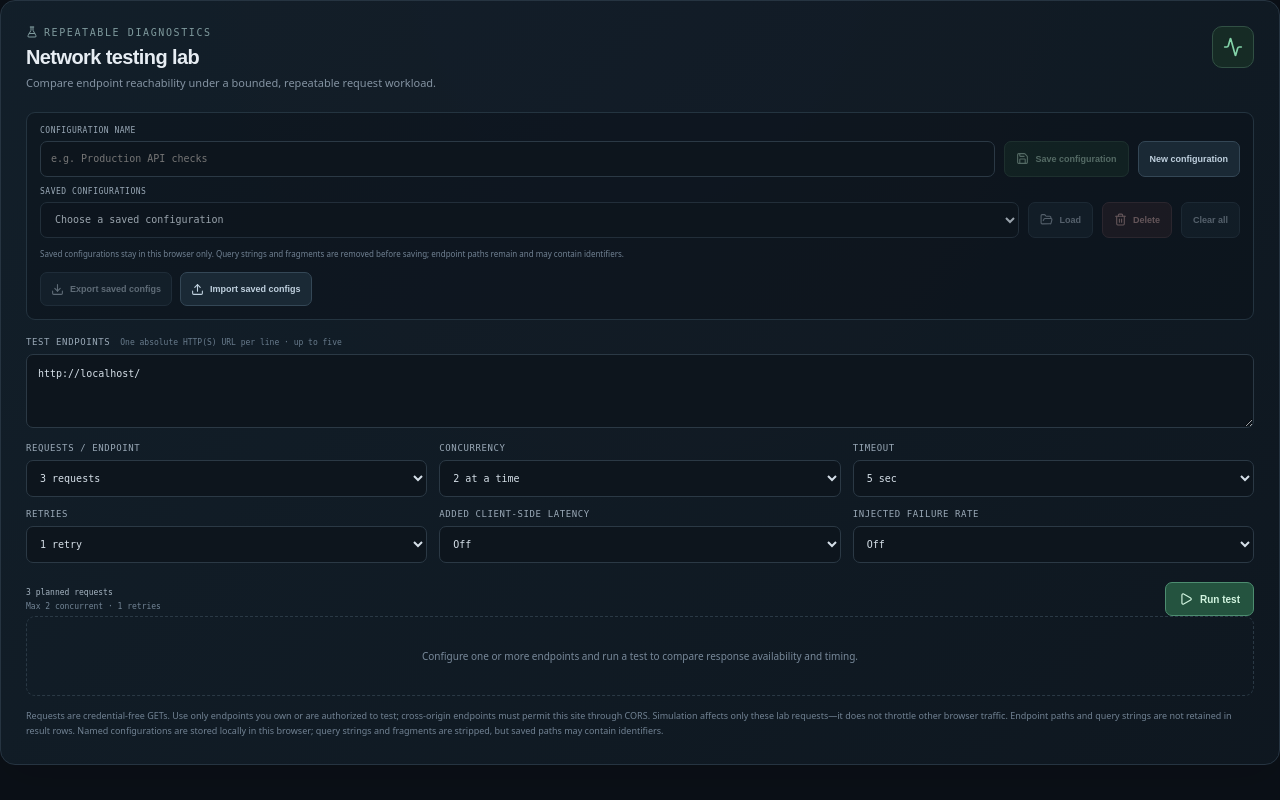
Test: NetworkTestLab › aborts the active run when the user cancels it
Click the button "Run test" at x=1210, y=599, box [1165, 582, 1254, 616]
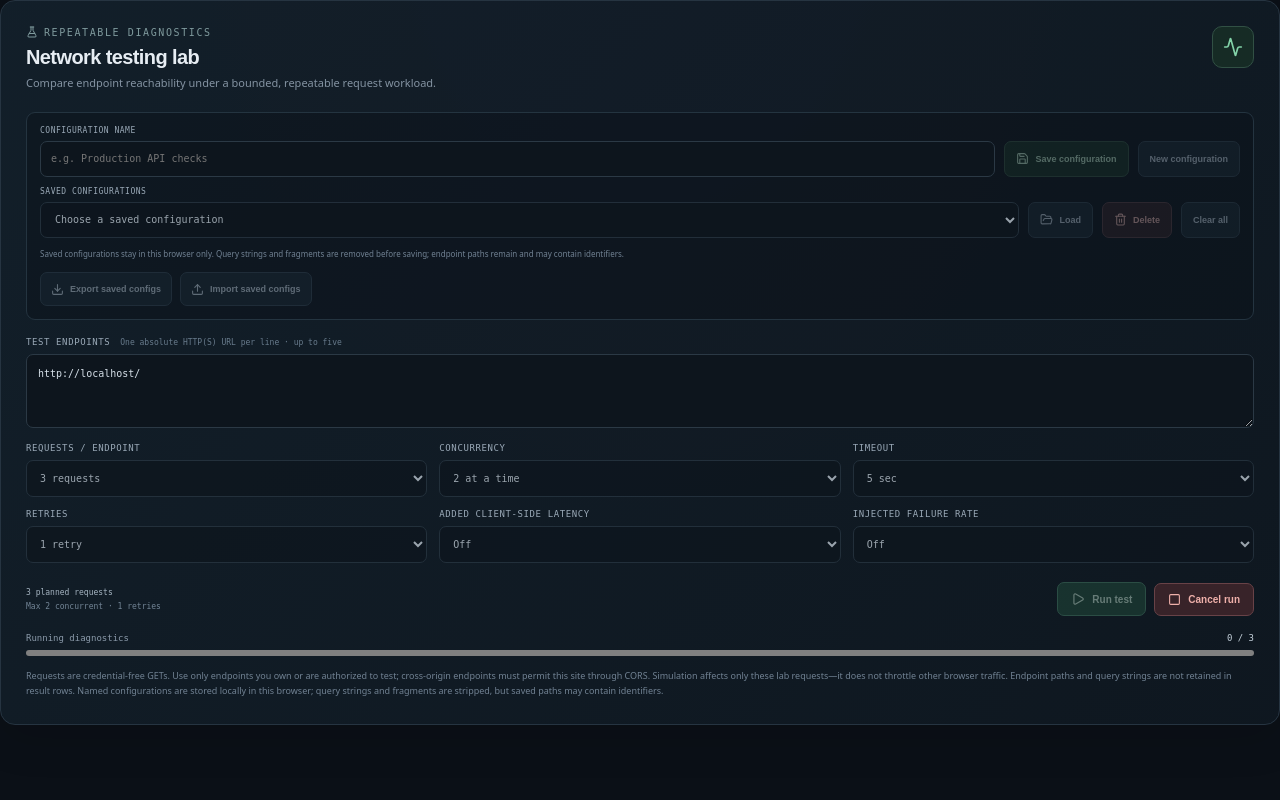
Result: the button "Cancel run" is shown
Click the button "Cancel run" at x=1204, y=599, box [1154, 583, 1254, 616]
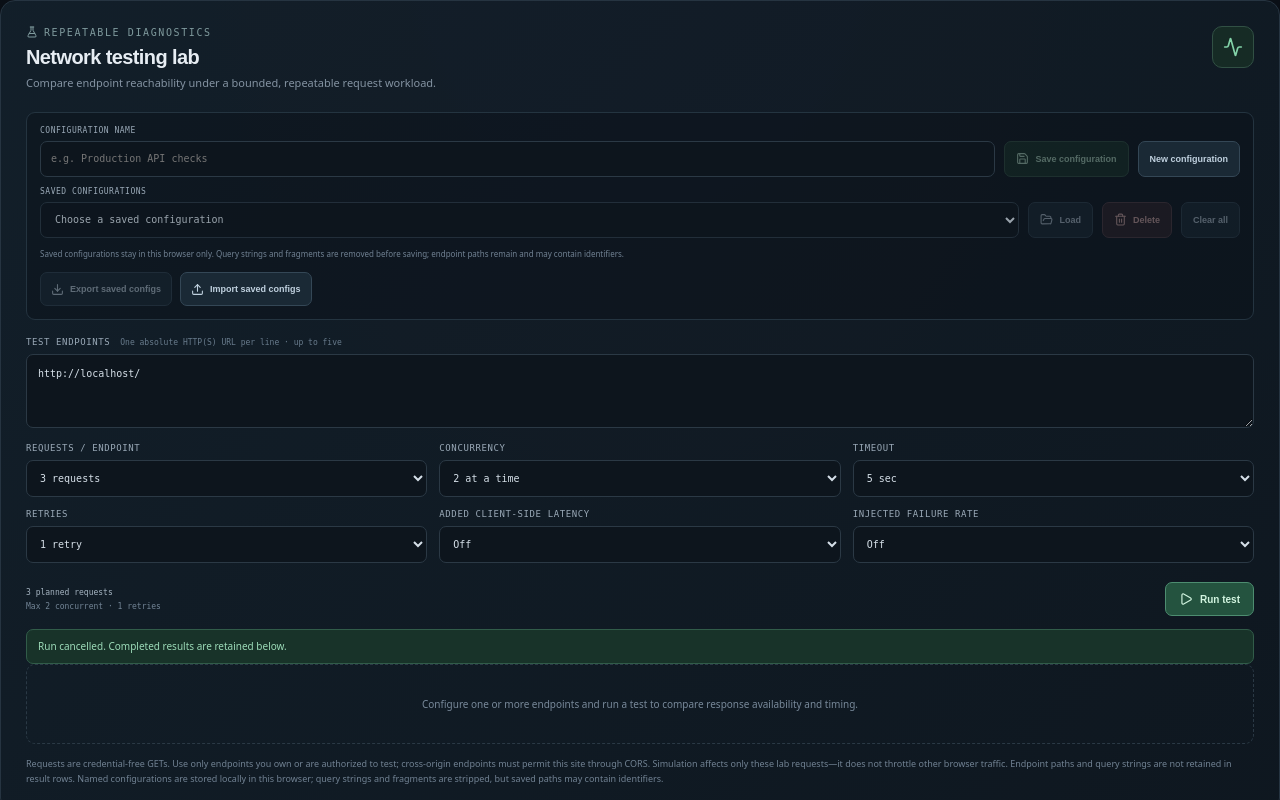
Result: the message shows "Run cancelled" at [38, 639, 287, 653]
